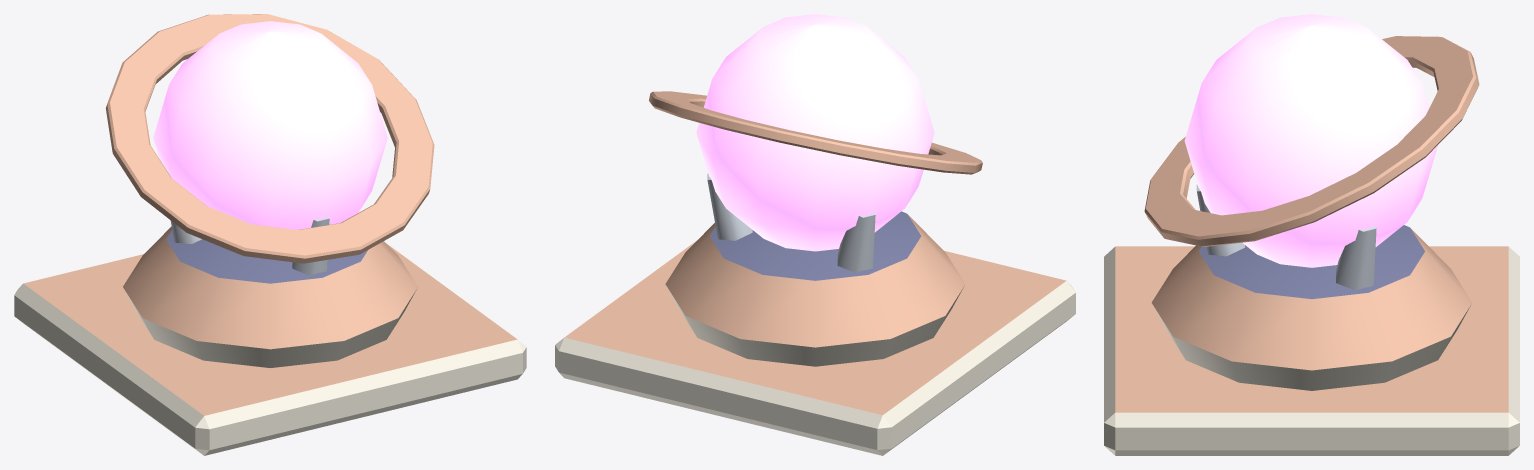
Rendered from R4X_OrbAmplifier_LOD1.fbx.
3 views of the same model, side by side, from view 1: azimuth 30°, elevation 25°; view 2: azimuth 150°, elevation 25°; view 3: azimuth 270°, elevation 25° (orthographic). The views are drawn at different scales.
Visible parts, largest first — view 1: R4X_OrbAmplifier_LOD1; view 2: R4X_OrbAmplifier_LOD1; view 3: R4X_OrbAmplifier_LOD1.
Boxes of the visible parts, x1,y1,x2,y2 form: R4X_OrbAmplifier_LOD1: (14,14,526,455); R4X_OrbAmplifier_LOD1: (555,14,1075,455); R4X_OrbAmplifier_LOD1: (1104,14,1519,455).
Bounding box in the file's own units: 0.52 × 0.4793 × 0.52.
